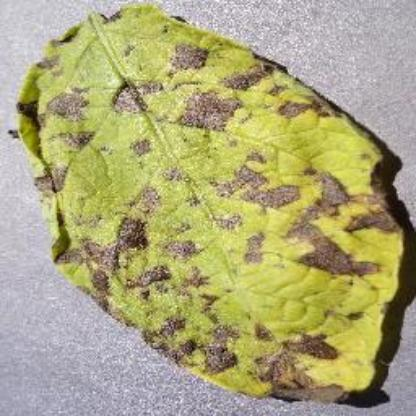Early-Blight: (15, 4, 409, 406)
